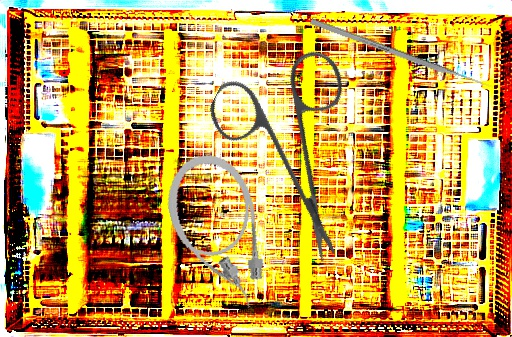Cannula: (157, 146, 278, 321)
Iris Scissors: (169, 18, 414, 266)
Pusher: (309, 18, 495, 91)
